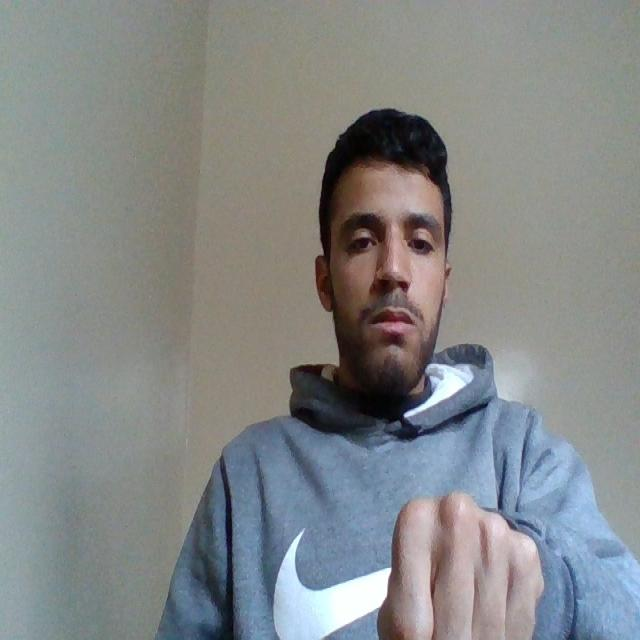No: (368, 491, 551, 638)
